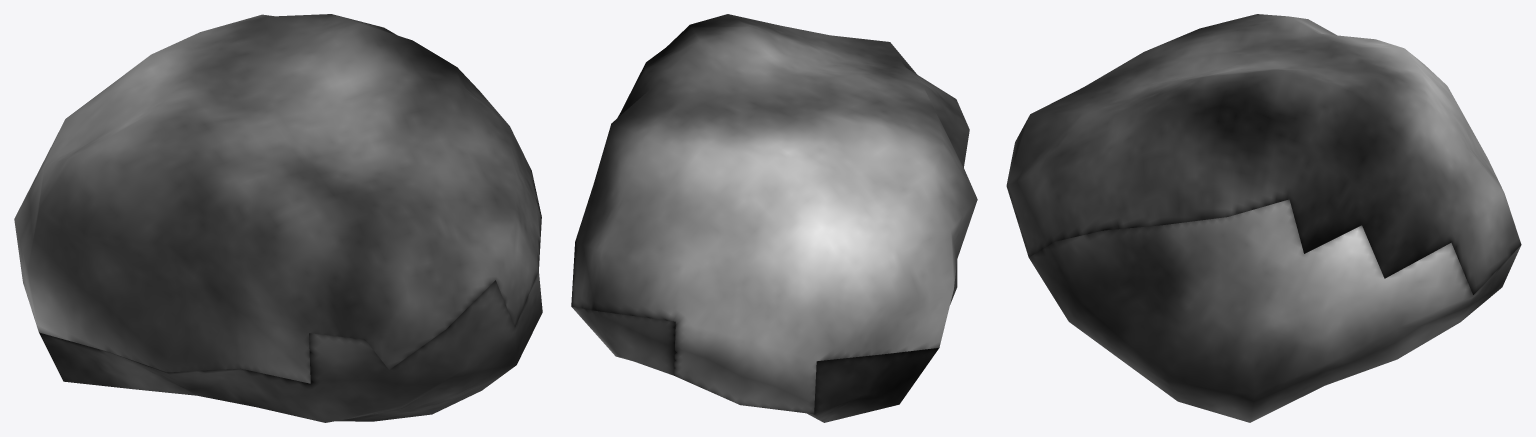
Rendered from SM_rock_small_02.fbx.
3 views of the same model, side by side, from view 1: azimuth 30°, elevation 25°; view 2: azimuth 150°, elevation 25°; view 3: azimuth 270°, elevation 25° (orthographic). The views are drawn at different scales.
Visible parts, largest first — view 1: SM_rock_small_02_LOD0; view 2: SM_rock_small_02_LOD0; view 3: SM_rock_small_02_LOD0.
Boxes of the visible parts, x1,y1,x2,y2 form: SM_rock_small_02_LOD0: (14, 14, 542, 422); SM_rock_small_02_LOD0: (571, 14, 977, 422); SM_rock_small_02_LOD0: (1006, 14, 1521, 422).
Bounding box in the file's own units: 81.6 × 95.77 × 68.06.
Materials: 1 (1 with a texture image).
